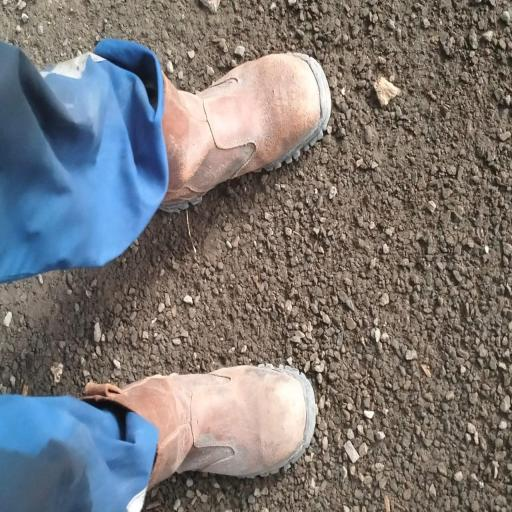safety_shoe: (128, 46, 341, 218), (87, 348, 324, 480)
